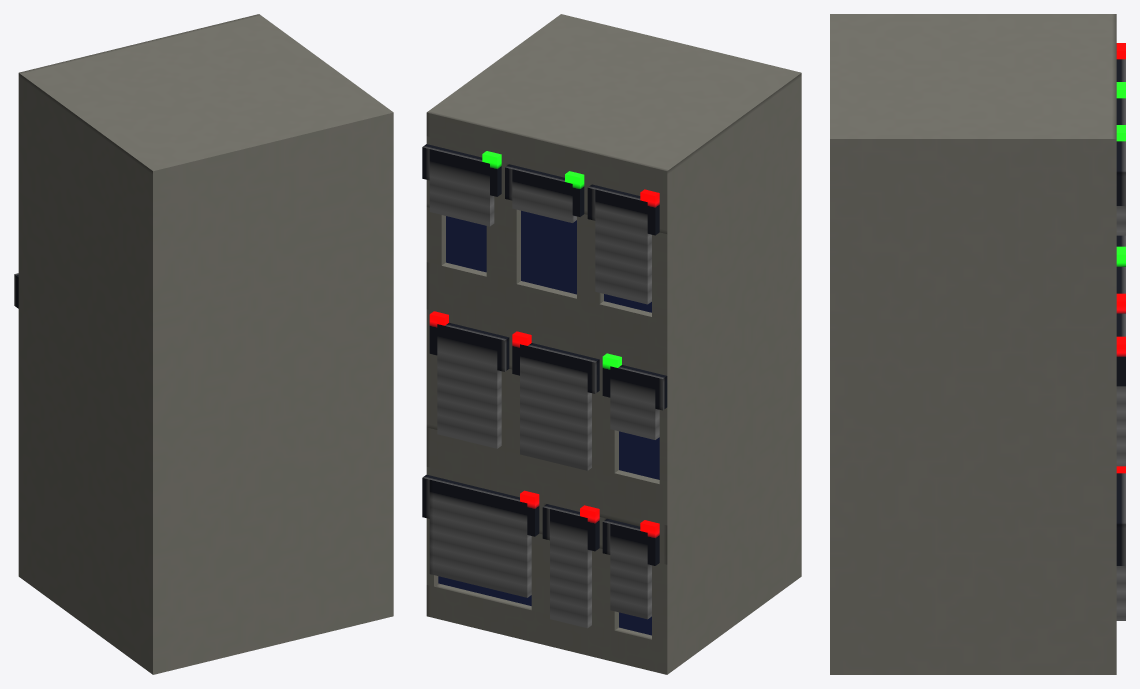
The model's file is budynek_01_okna.dae.
3 views of the same model, side by side, from view 1: azimuth 30°, elevation 25°; view 2: azimuth 150°, elevation 25°; view 3: azimuth 270°, elevation 25° (orthographic). The views are drawn at different scales.
Visible parts, largest first — view 1: Content; view 2: Content; view 3: Content.
Part boxes in pixels (x1=…): Content: x1=14, y1=14, x2=393, y2=674; Content: x1=422, y1=14, x2=801, y2=674; Content: x1=830, y1=14, x2=1125, y2=674.
Bounding box in the file's own units: 32 × 64 × 32.
Materials: 1 (1 with a texture image).
